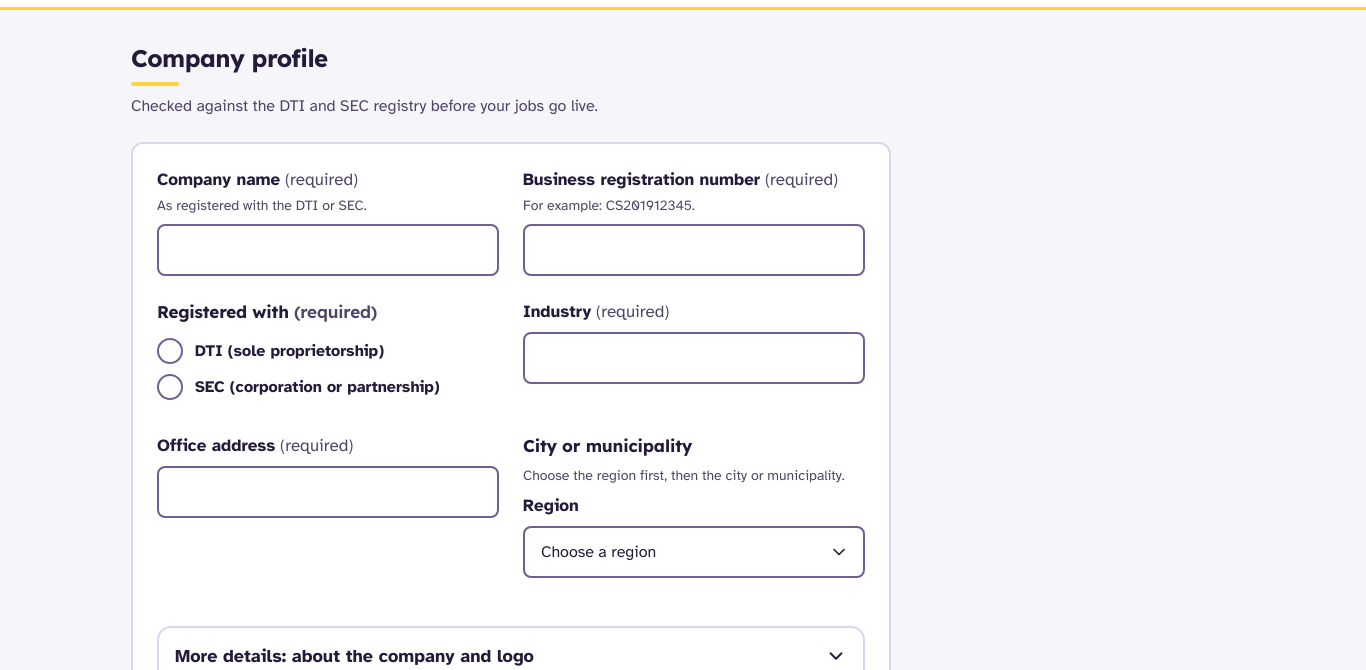
Test: CompanyProfilePage › a new employer fills in the company and saves it as JSON
In the field labelled "Company name (required)": [328, 250] box [157,224,499,276], type "Kalinga Foods Inc."
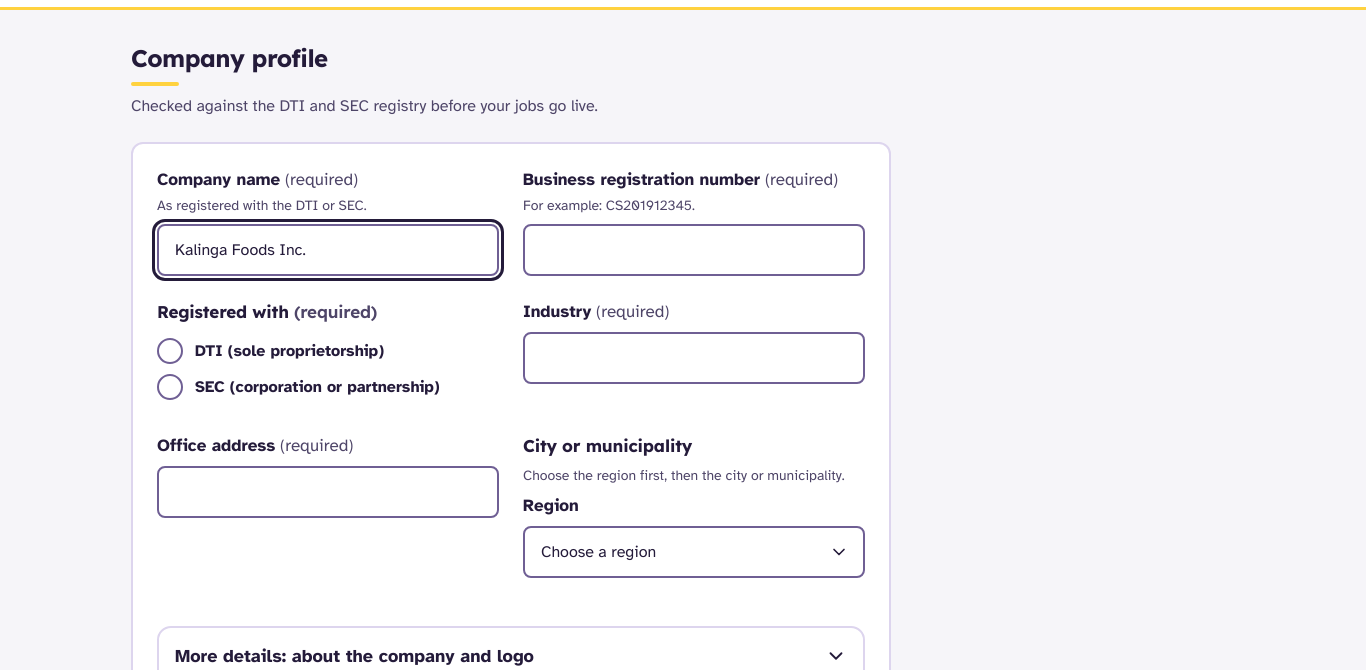
Click the radio button labelled "SEC (corporation or partnership)": [170, 387] box [157,374,183,400]
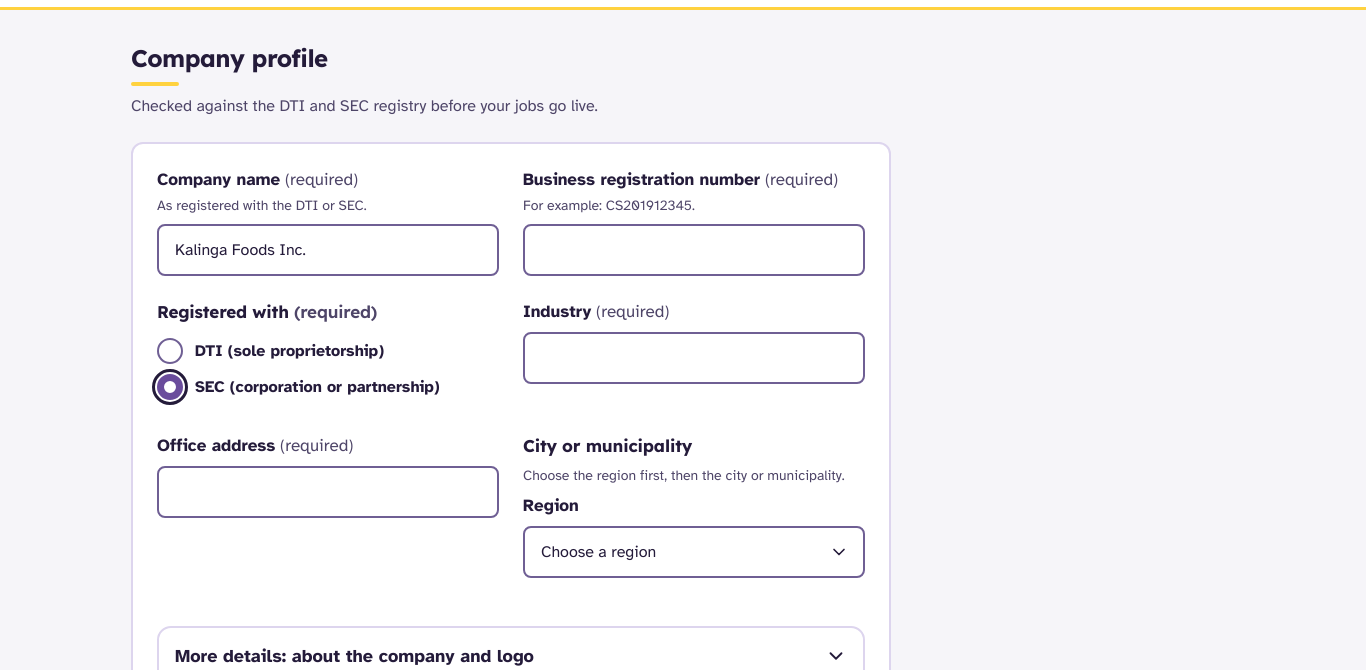
In the field labelled "Business registration number (required)": [694, 250] box [523,224,865,276], type "CS201912345"
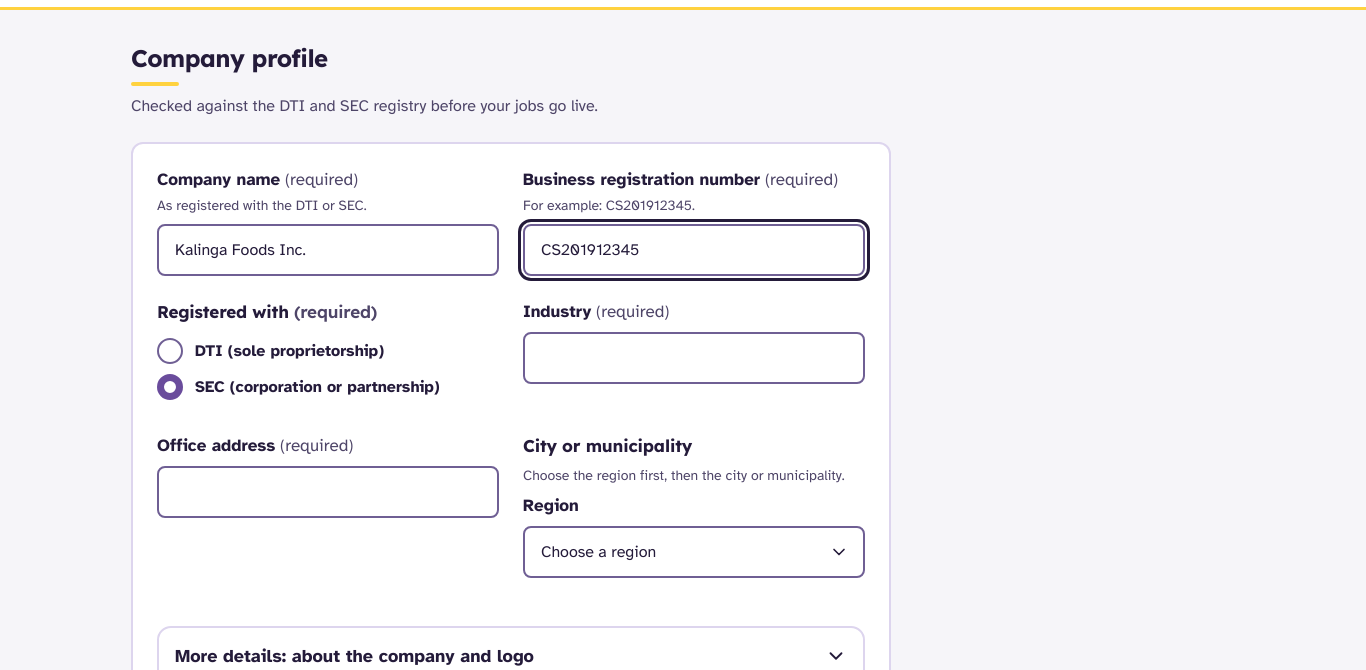
In the field labelled "Industry (required)": [694, 358] box [523,332,865,384], type "Food"
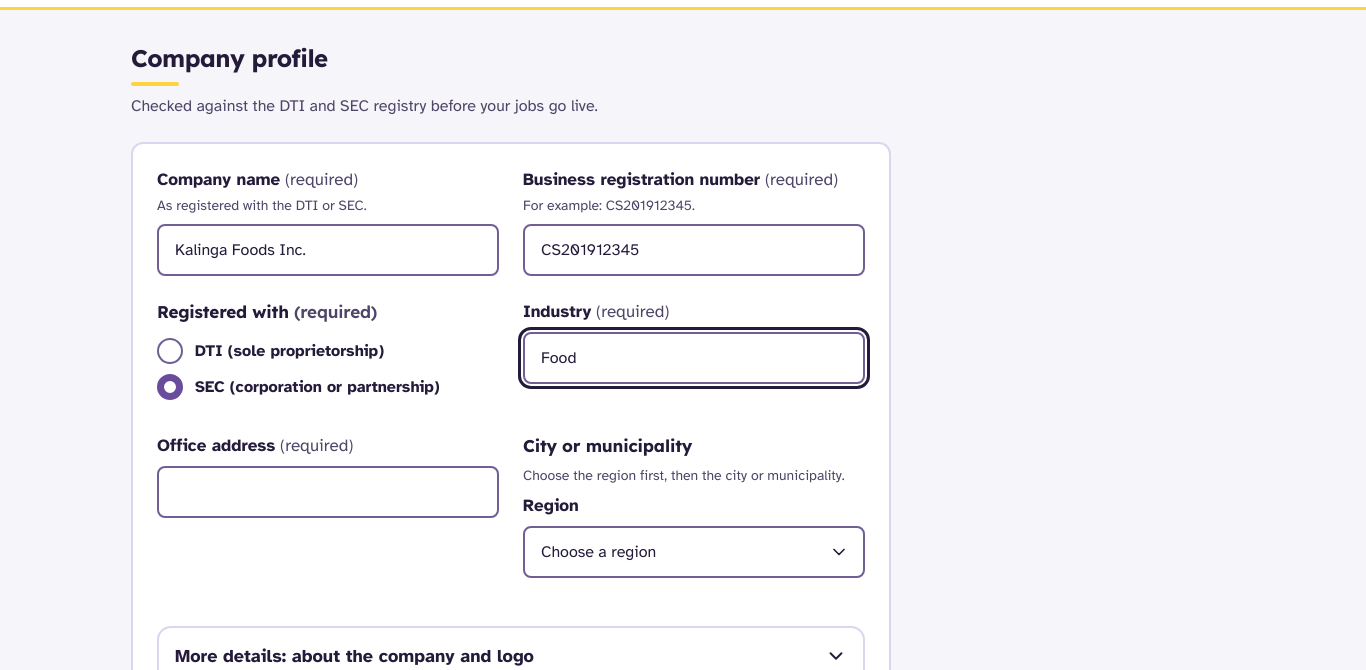
In the field labelled "Office address (required)": [328, 492] box [157,466,499,518], type "1 Ayala Ave."
(page scrolled)
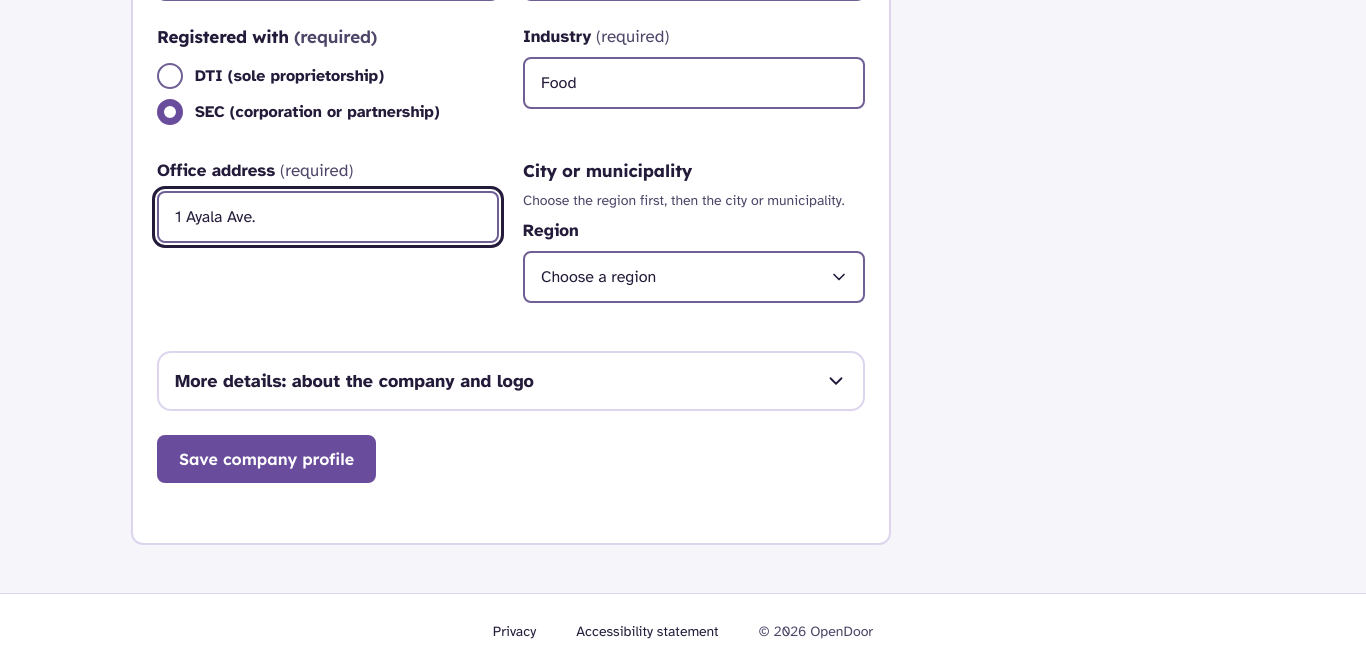
Click the button "Save company profile": [266, 459] box [157,435,376,483]
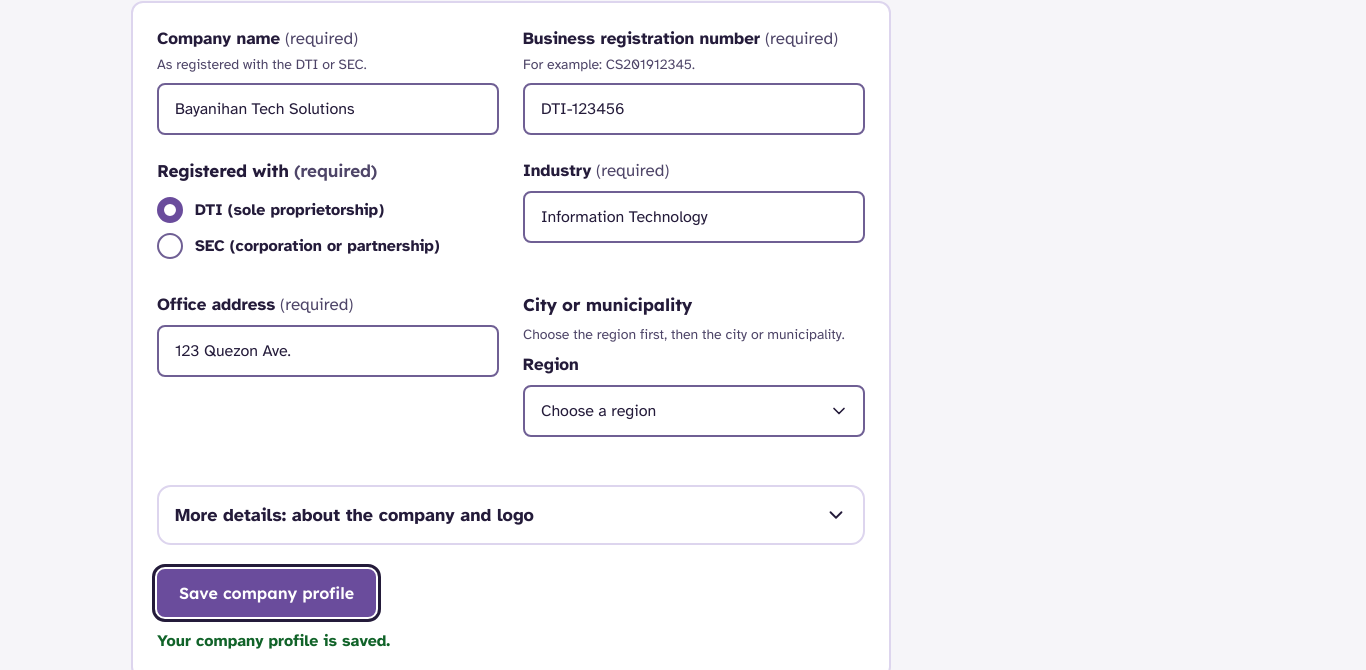
Check: the text "Your company profile is saved." is shown, box [157,631,390,651]
Check: the field labelled "Business registration number (required)" holds "DTI-123456", box [523,83,865,135]
